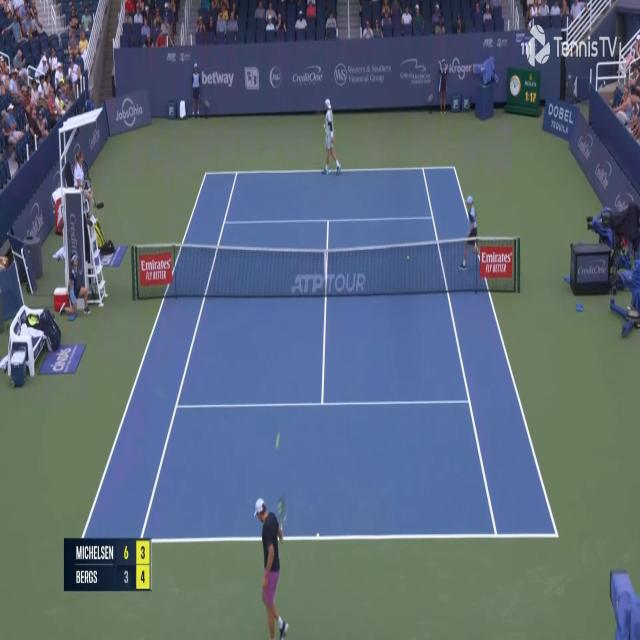tennis-player: (253, 493, 290, 638), (319, 96, 342, 176)
